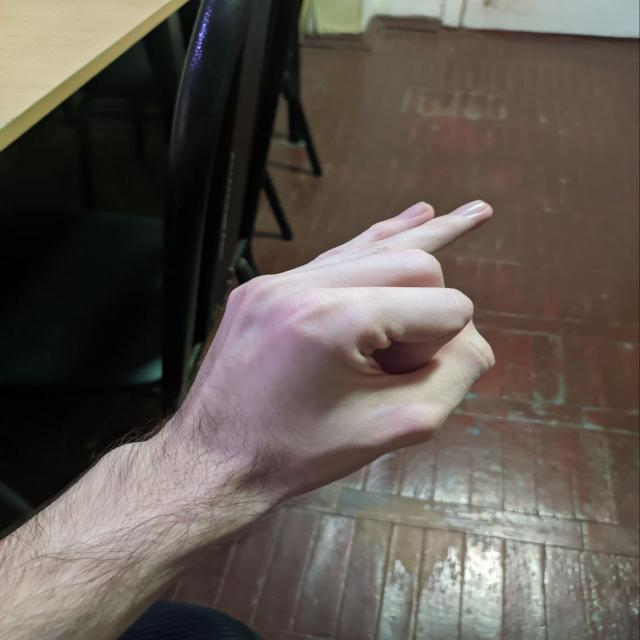i-: (215, 173, 550, 467)
